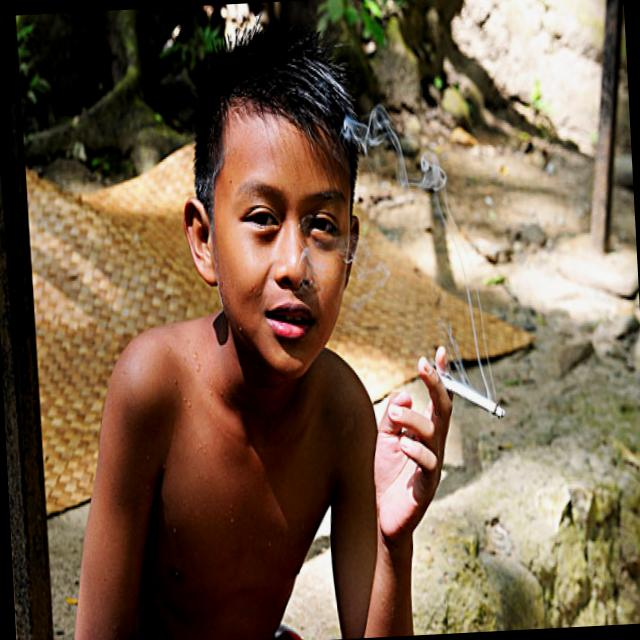cigarette: (441, 370, 506, 423)
